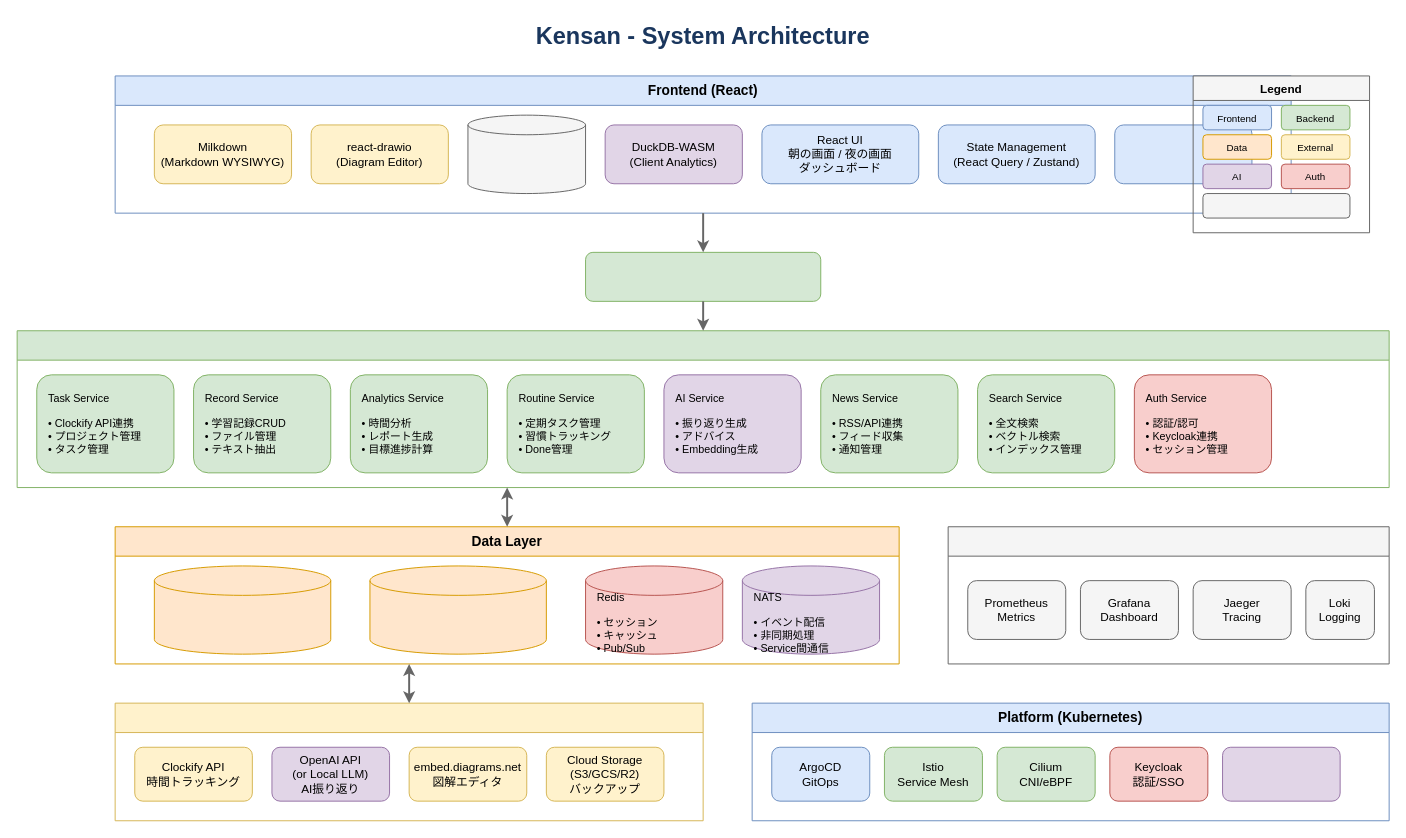
The diagram is 1406 pixels wide and 838 high, and some of its shapes have lost their labels. The shapes that lost their labels are listed below. From the top down, each one's box as (x1, y1, x2, y2) in pixels, then its label:
(467, 114, 586, 194): IndexedDB (Dexie.js) キャッシュ・下書き
(1114, 124, 1252, 184): API Client (gRPC-Web)
(1202, 193, 1350, 218): Observability
(585, 251, 821, 301): API Gateway (Istio Ingress Gateway)
(16, 330, 1389, 488): Backend Microservices (Go / gRPC)
(153, 565, 331, 654): PostgreSQL + pgvector • メタデータ • 全文検索インデックス • Embedding
(369, 565, 546, 654): MinIO (S3互換) • md/drawio本体 • バージョン履歴 • メディアファイル
(947, 526, 1389, 664): Observability (Prometheus / Grafana / Jaeger)
(114, 702, 703, 821): External Services
(1222, 746, 1340, 801): Backstage Developer Portal
